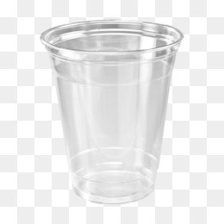glass: (33, 10, 189, 207)
